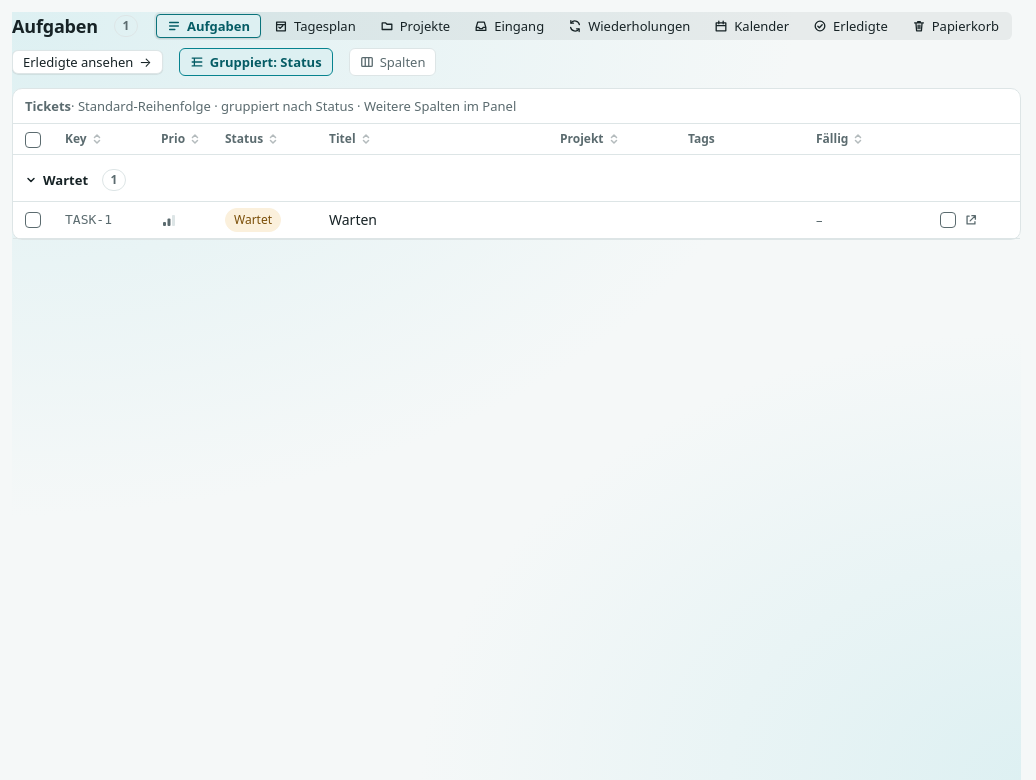
Test case: ticket table: grouping (E3 plan, package 13) › restores the previous status into its group with "Rückgängig" in the flag
What coordinates should you click on to do the following:
click the checkbox named "TASK-1 erledigt"
I would click on:
 (948, 220)
Its box is x1=940 y1=212 x2=956 y2=228.
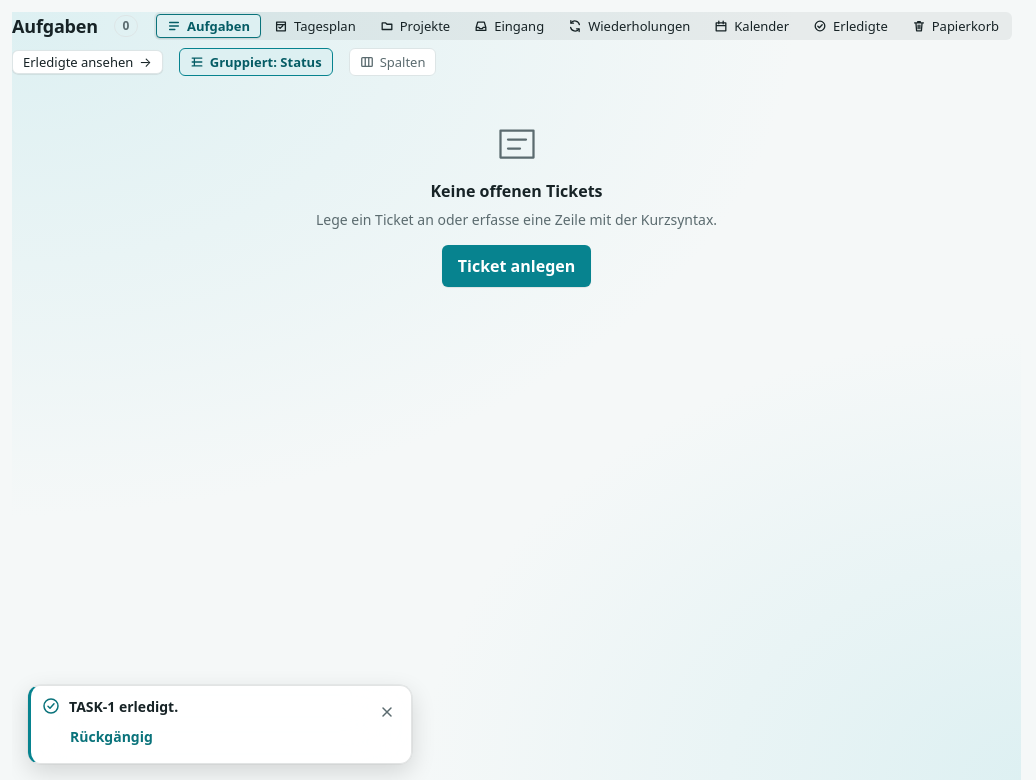
What coordinates should you click on to do the following:
click the button "Rückgängig"
I would click on:
 (111, 736)
Its box is x1=59 y1=720 x2=164 y2=753.
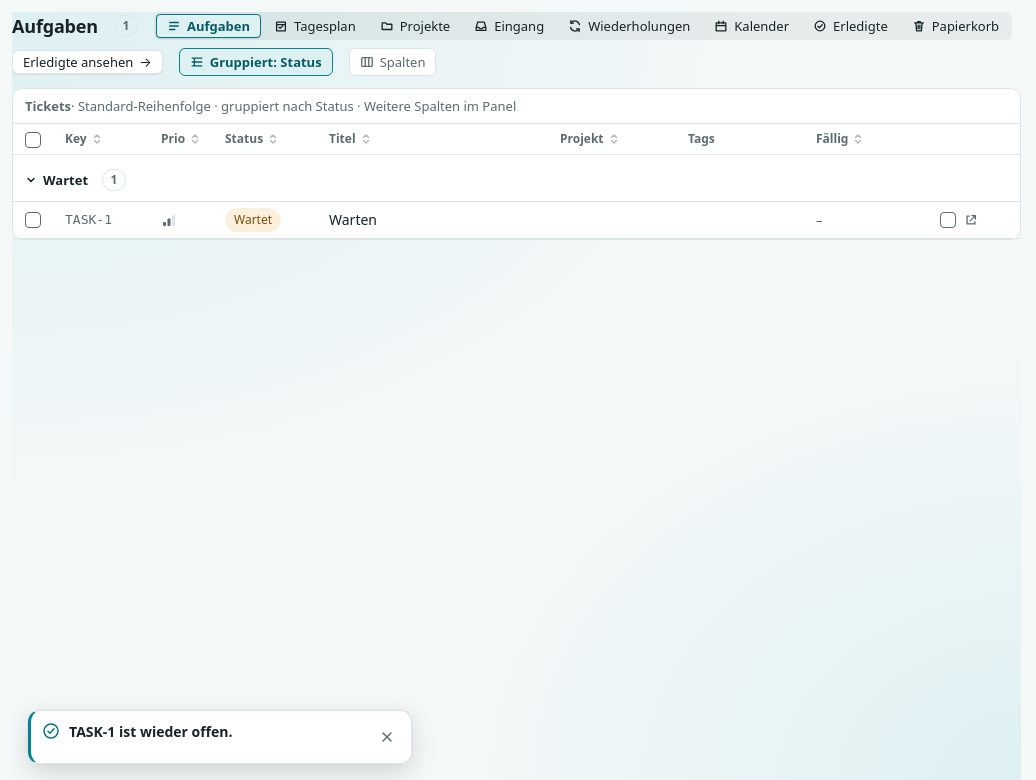
Result: the table named "Wartet, 1 Ticket" is shown at x1=13 y1=154 x2=1020 y2=238
